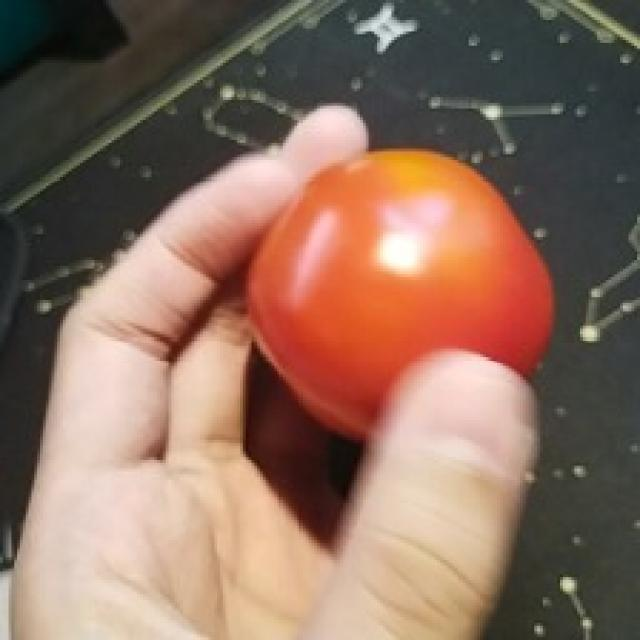Fresh Tomato: (216, 125, 572, 477)
